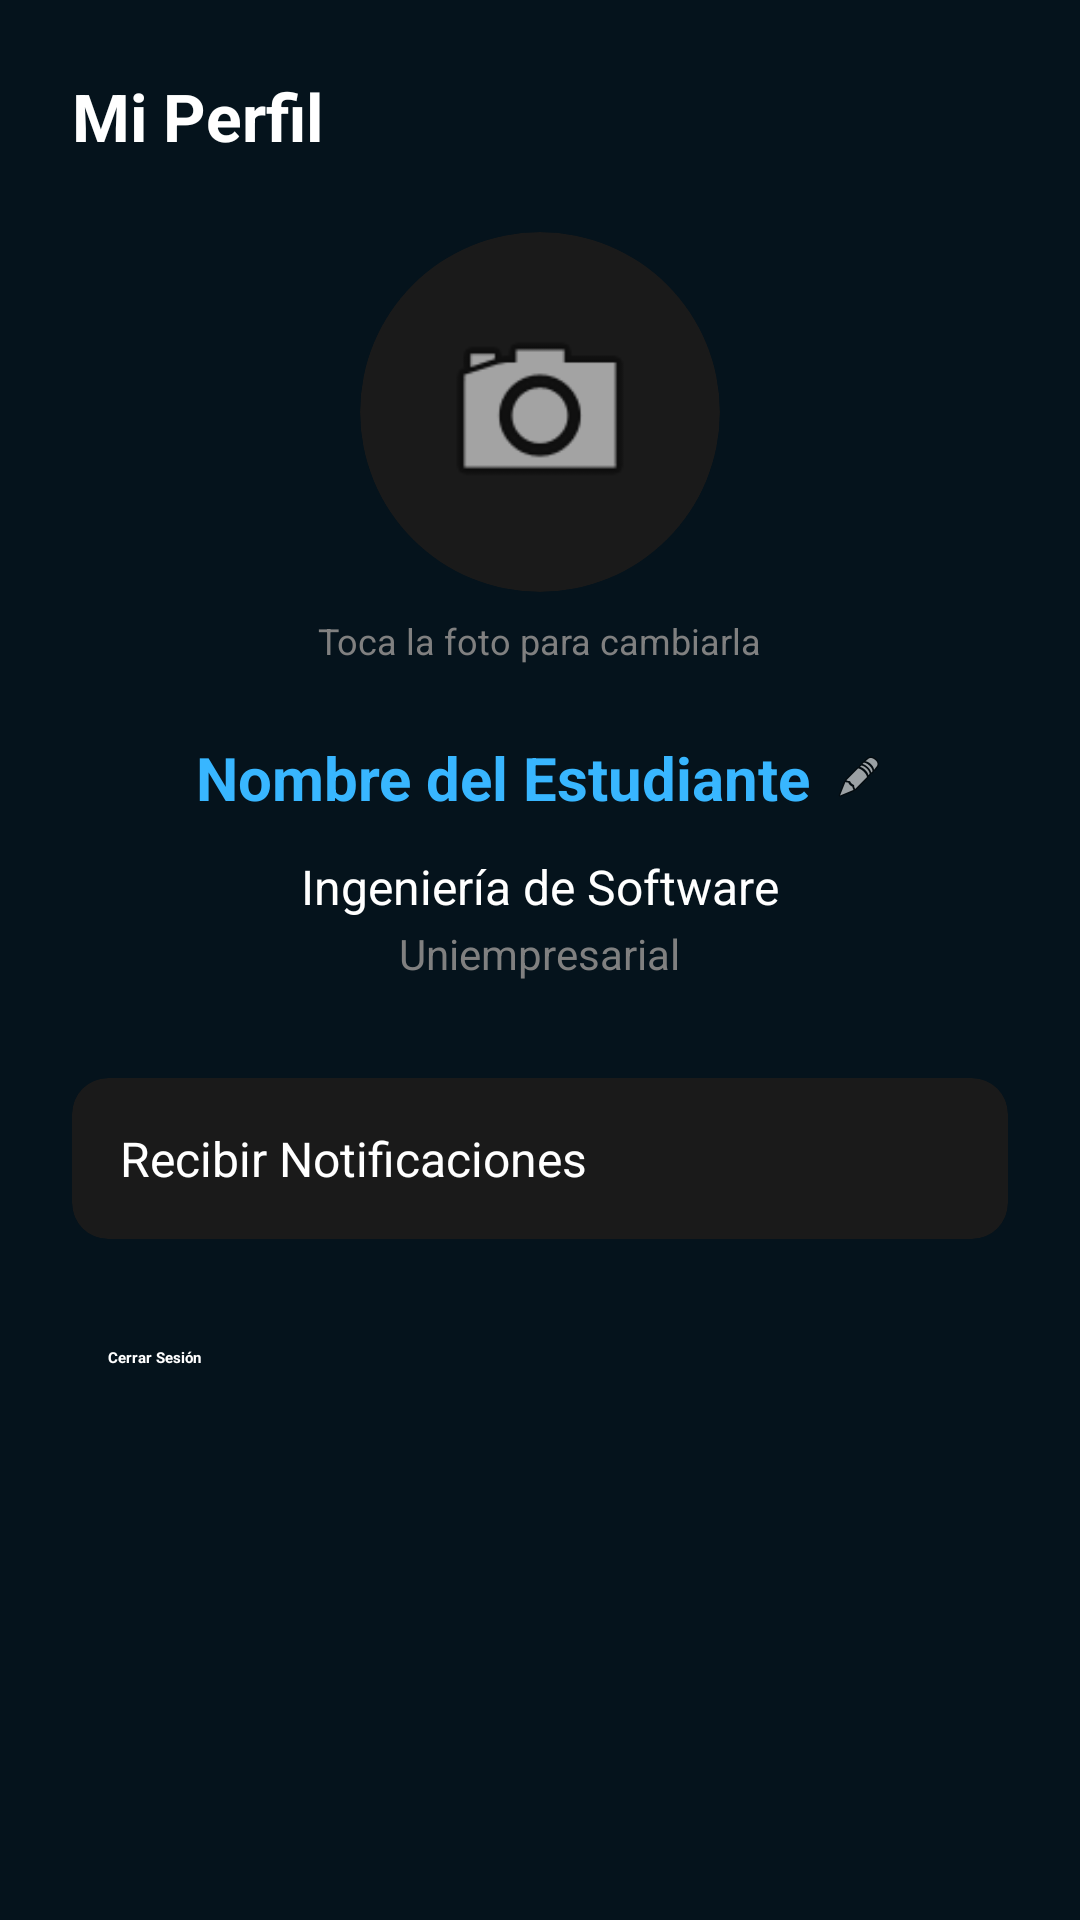

Point at icon controls on the screen. Image size 1080x1920, points as [x,y].
camera: [540,408]
edit: [859,777]
